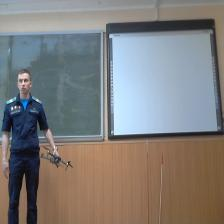drone: (38, 140, 75, 172)
